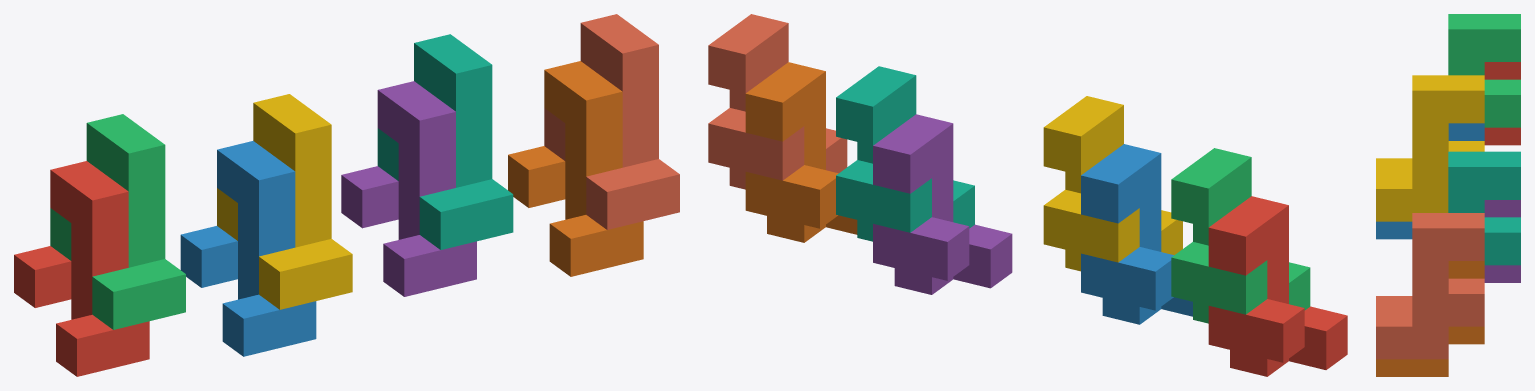
The model's file is tiling.obj.
3 renders of one model, left to right at view 1: azimuth 30°, elevation 25°; view 2: azimuth 150°, elevation 25°; view 3: azimuth 270°, elevation 25°, orthographic. The views are drawn at different scales.
Visible parts, largest first — view 1: copy_1_domain_6, copy_1_domain_2, copy_1_domain_5, copy_1_domain_1, copy_1_domain_3, copy_1_domain_7, copy_1_domain_8, copy_1_domain_4; view 2: copy_1_domain_5, copy_1_domain_1, copy_1_domain_2, copy_1_domain_6, copy_1_domain_3, copy_1_domain_7, copy_1_domain_8, copy_1_domain_4; view 3: copy_1_domain_8, copy_1_domain_4, copy_1_domain_7, copy_1_domain_3, copy_1_domain_6, copy_1_domain_1, copy_1_domain_2, copy_1_domain_5.
Part boxes in pixels (x1,y1,x2,y2): copy_1_domain_6: (508, 61, 643, 276); copy_1_domain_2: (180, 141, 316, 356); copy_1_domain_5: (341, 81, 476, 296); copy_1_domain_1: (14, 161, 149, 376); copy_1_domain_3: (50, 114, 185, 329); copy_1_domain_7: (377, 34, 513, 249); copy_1_domain_8: (544, 14, 679, 229); copy_1_domain_4: (217, 94, 352, 309); copy_1_domain_5: (873, 114, 1012, 294); copy_1_domain_1: (1208, 196, 1347, 376); copy_1_domain_2: (1081, 144, 1192, 324); copy_1_domain_6: (745, 62, 857, 242); copy_1_domain_3: (1171, 148, 1310, 323); copy_1_domain_7: (836, 66, 974, 241); copy_1_domain_8: (708, 14, 847, 189); copy_1_domain_4: (1043, 96, 1182, 271); copy_1_domain_8: (1376, 213, 1484, 359); copy_1_domain_4: (1376, 75, 1484, 221); copy_1_domain_7: (1448, 151, 1520, 265); copy_1_domain_3: (1448, 14, 1520, 127); copy_1_domain_6: (1376, 261, 1484, 376); copy_1_domain_1: (1484, 62, 1520, 145); copy_1_domain_2: (1376, 123, 1484, 239); copy_1_domain_5: (1484, 200, 1520, 282).
Bounding box in the file's own units: 16 × 5 × 4.
